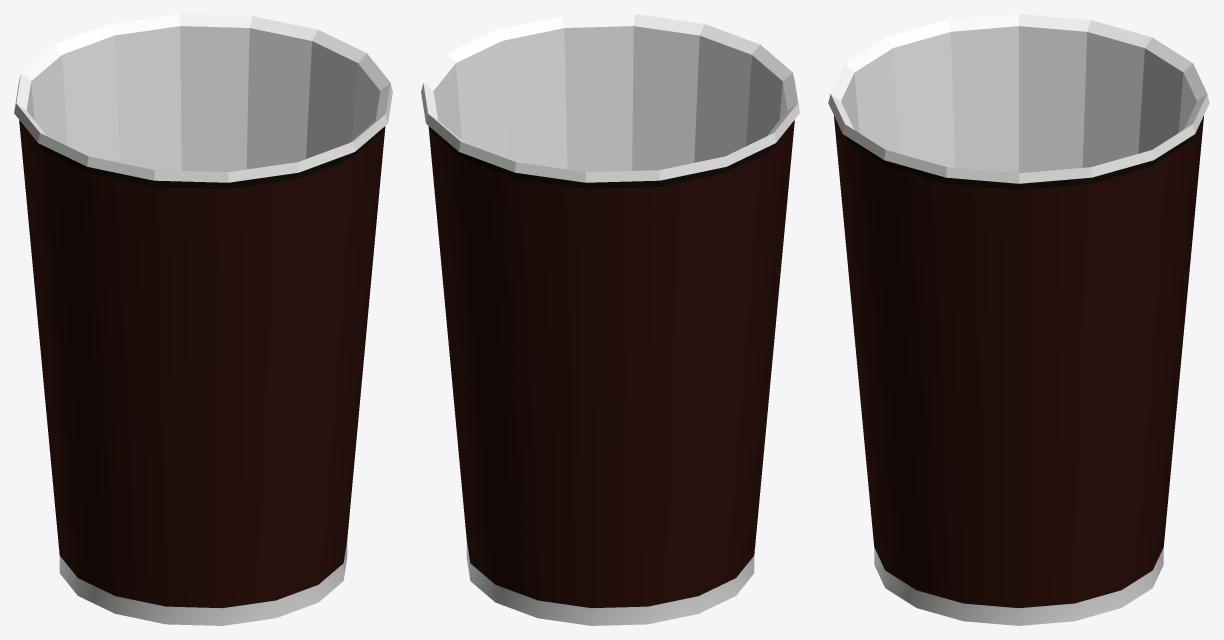
Rendered from cup.fbx.
The picture shows the model from 3 angles, left to right: view 1: azimuth 30°, elevation 25°; view 2: azimuth 150°, elevation 25°; view 3: azimuth 270°, elevation 25°; orthographic projection.
Visible parts, largest first — view 1: cup; view 2: cup; view 3: cup.
Part boxes in pixels (<box>): cup: <box>14,14,392,625</box>; cup: <box>421,14,799,625</box>; cup: <box>828,14,1209,625</box>.
Bounding box in the file's own units: 4.91 × 4.91 × 6.69.
